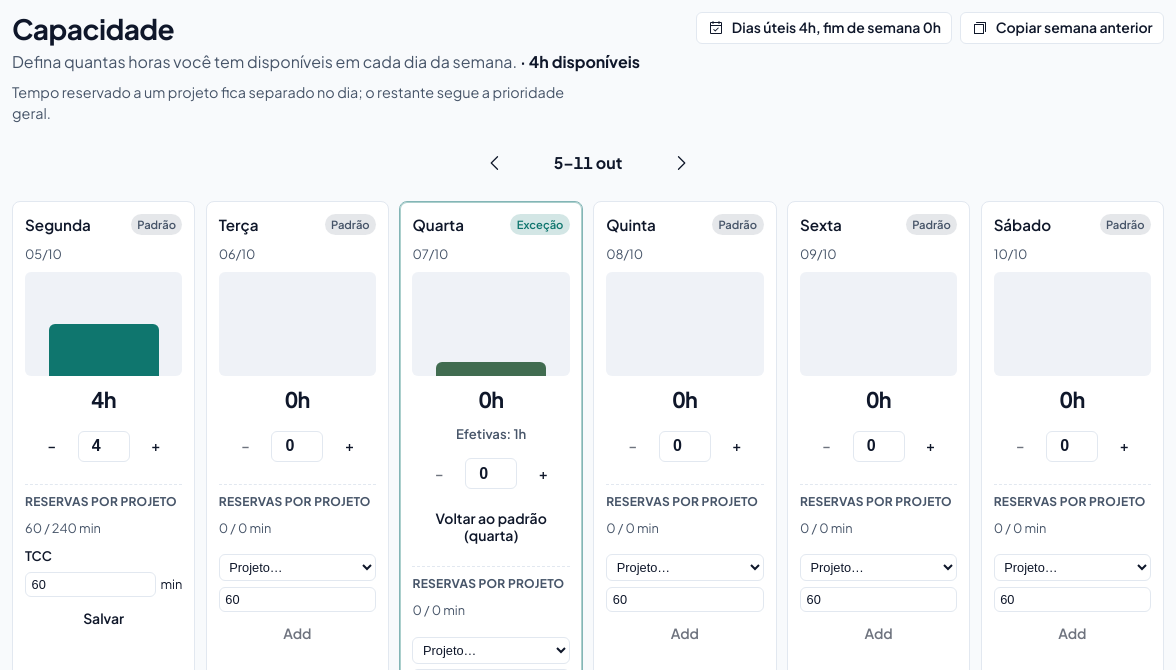
Test case: CapacidadePage › T6: duas trocas rápidas de semana aplicam só a última
The width and height of the screenshot is (1176, 670).
Click the button named "semana seguinte" at (681, 163), box [656,141,705,185]
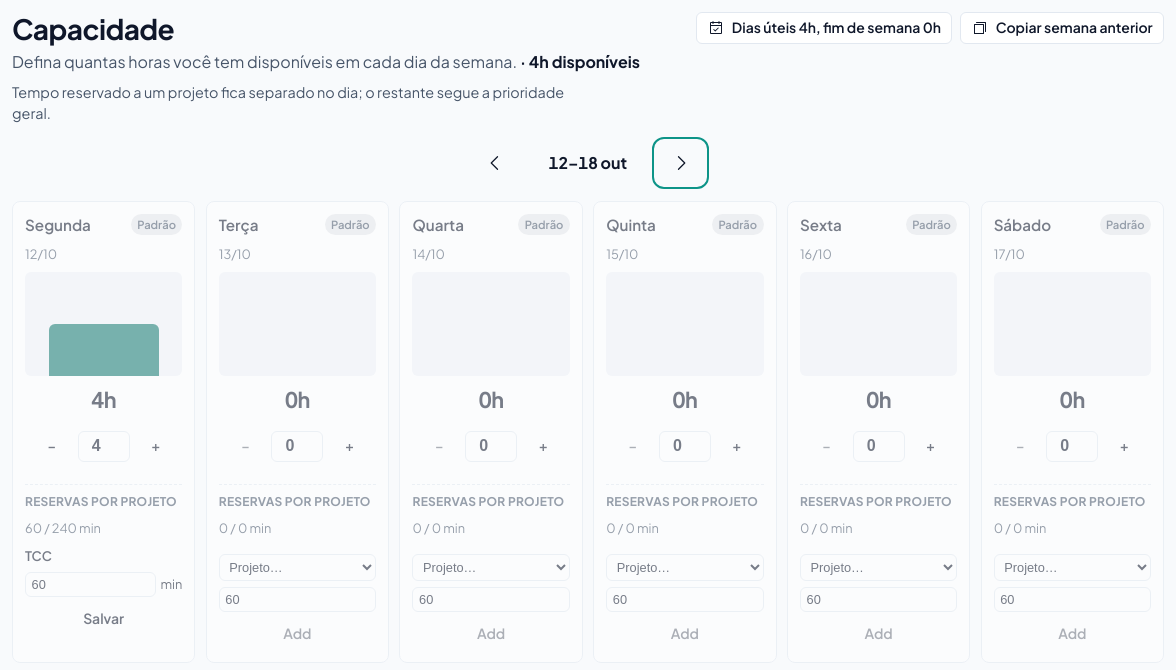
Click the button named "semana seguinte" at (681, 163), box [656,141,705,185]
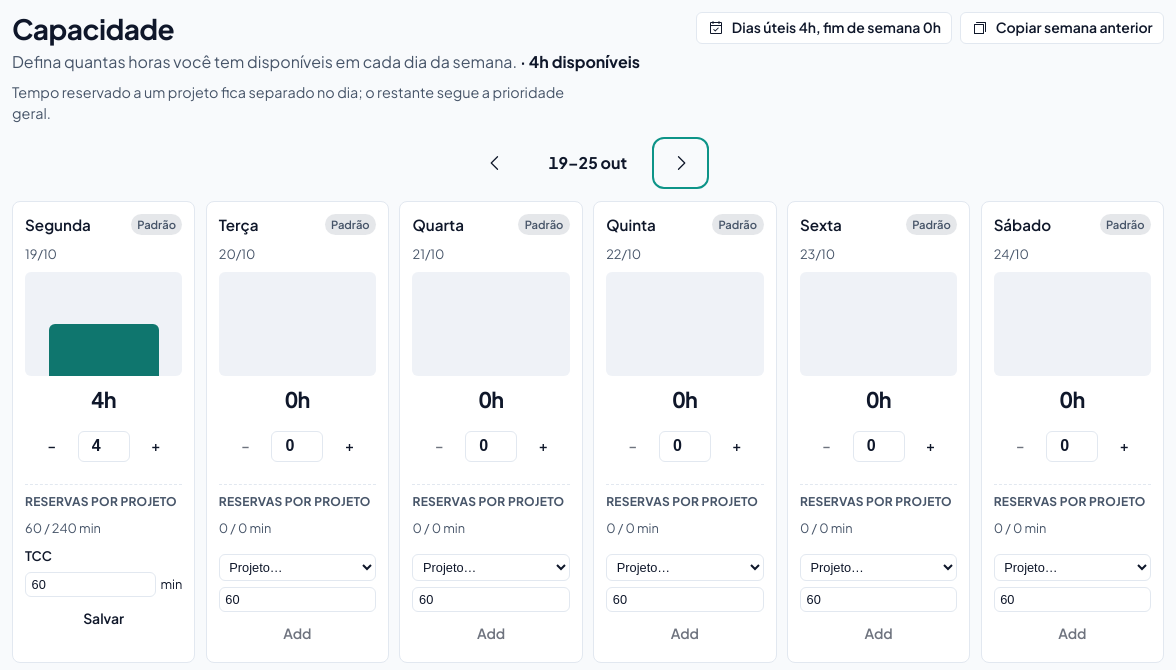
Now the text "19–25 out" is shown, box [549,152,627,173]
Now the text "12–18" is gone
